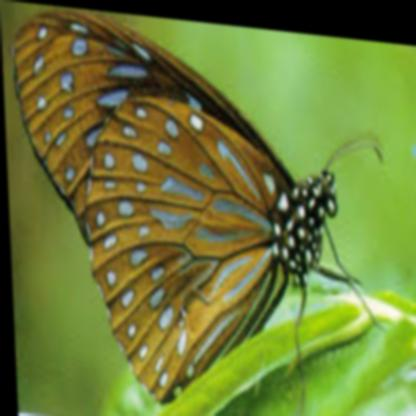Butterfly: (9, 3, 391, 415)
